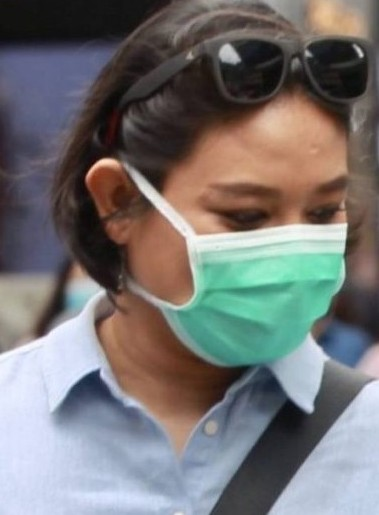with_mask: (124, 87, 355, 358)
